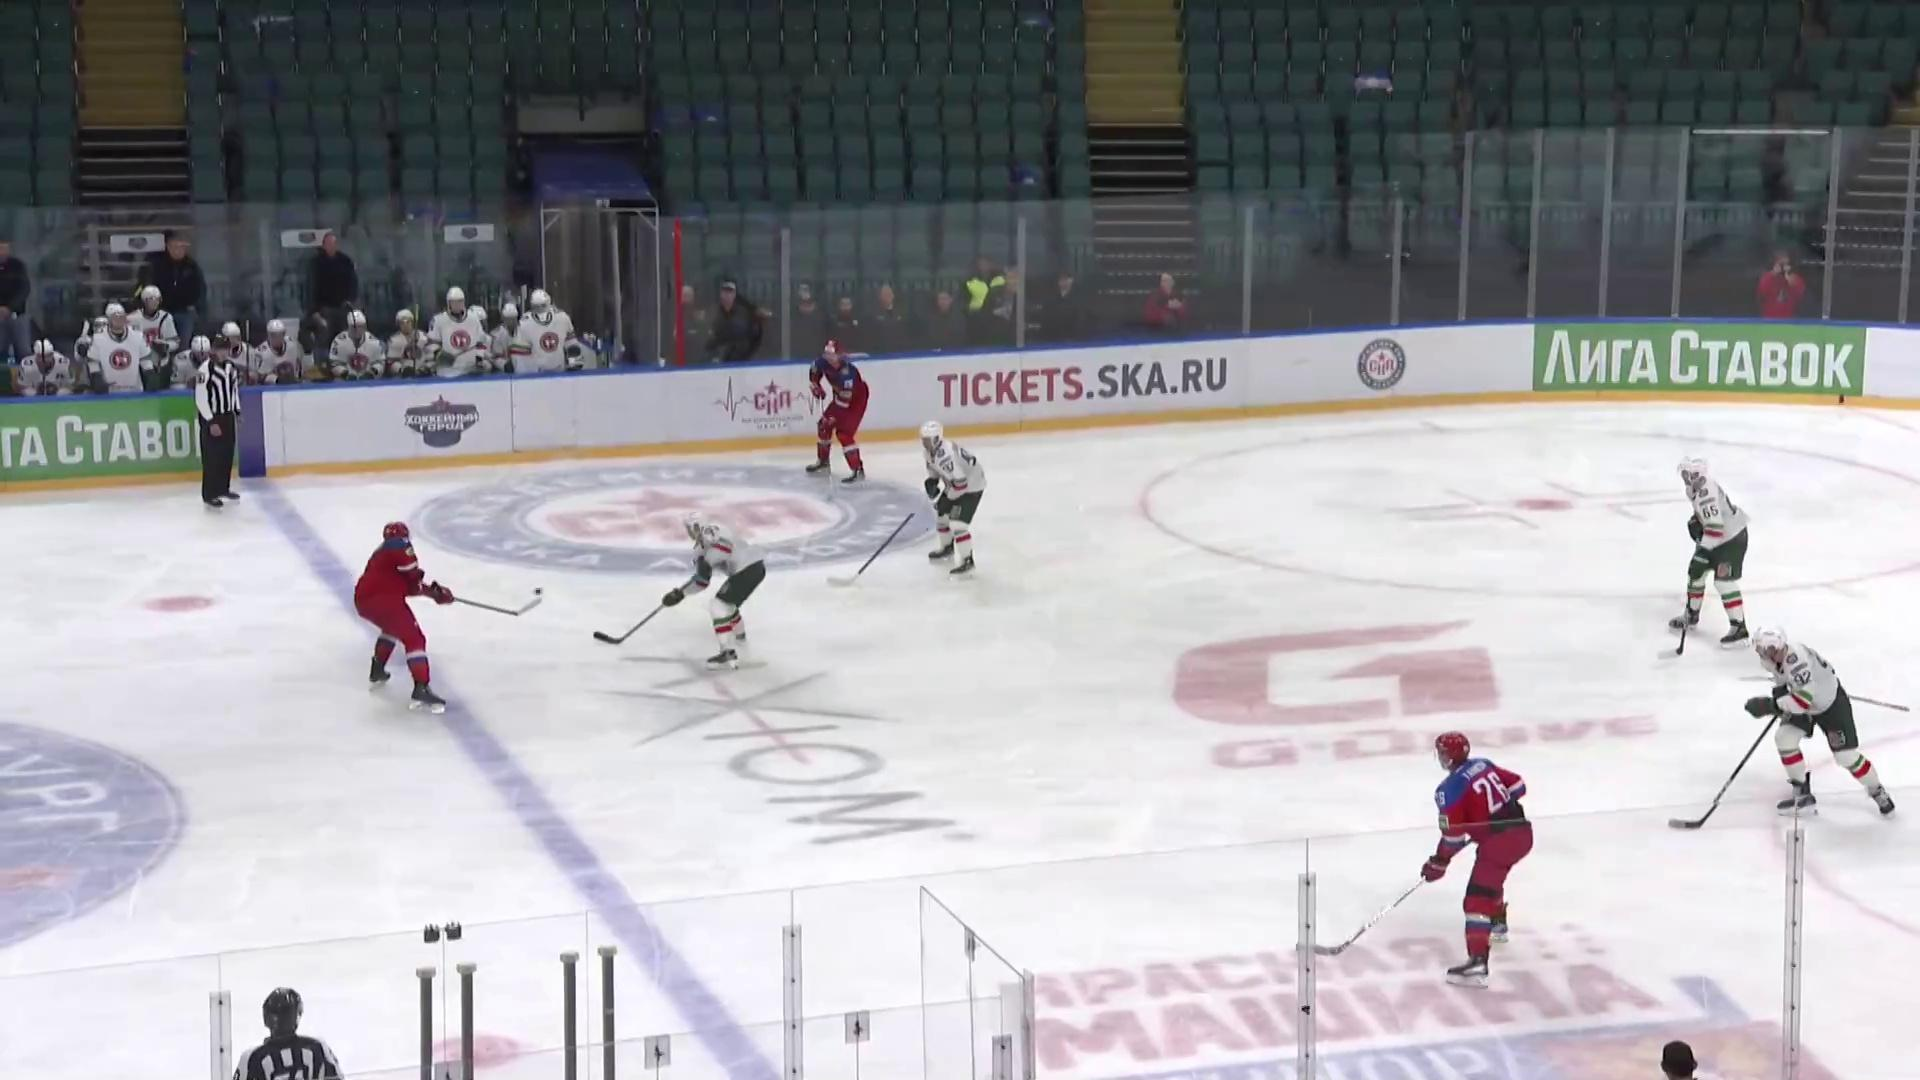ball: (534, 587, 542, 595)
